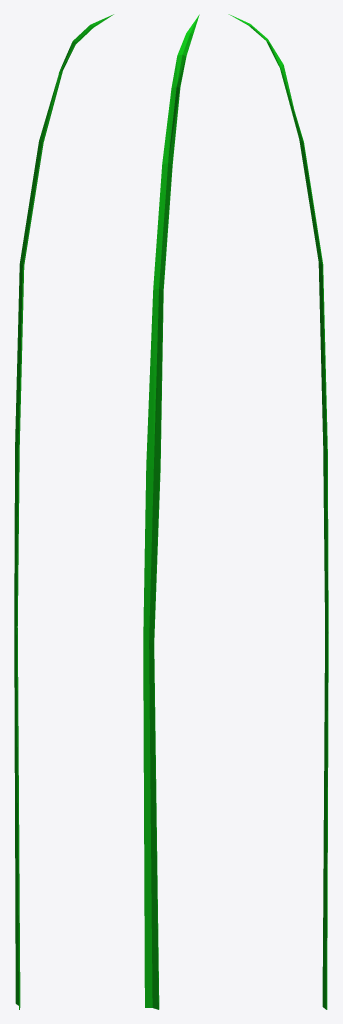
The model's file is bergras.dae.
The picture shows the model from 3 angles, left to right: view 1: azimuth 90°, elevation 25°; view 2: azimuth 150°, elevation 25°; view 3: azimuth 270°, elevation 25°; orthographic projection. The views are drawn at different scales.
Parts seen in each view (by area): view 1: Plane; view 2: Plane; view 3: Plane.
Boxes of the visible parts, box(x1,y1,x2,y2) form: Plane: box(14, 14, 113, 1009); Plane: box(143, 14, 199, 1009); Plane: box(228, 14, 328, 1009).
Size of the model in its own units: 0.1674 by 0.8682 by 9.47.
